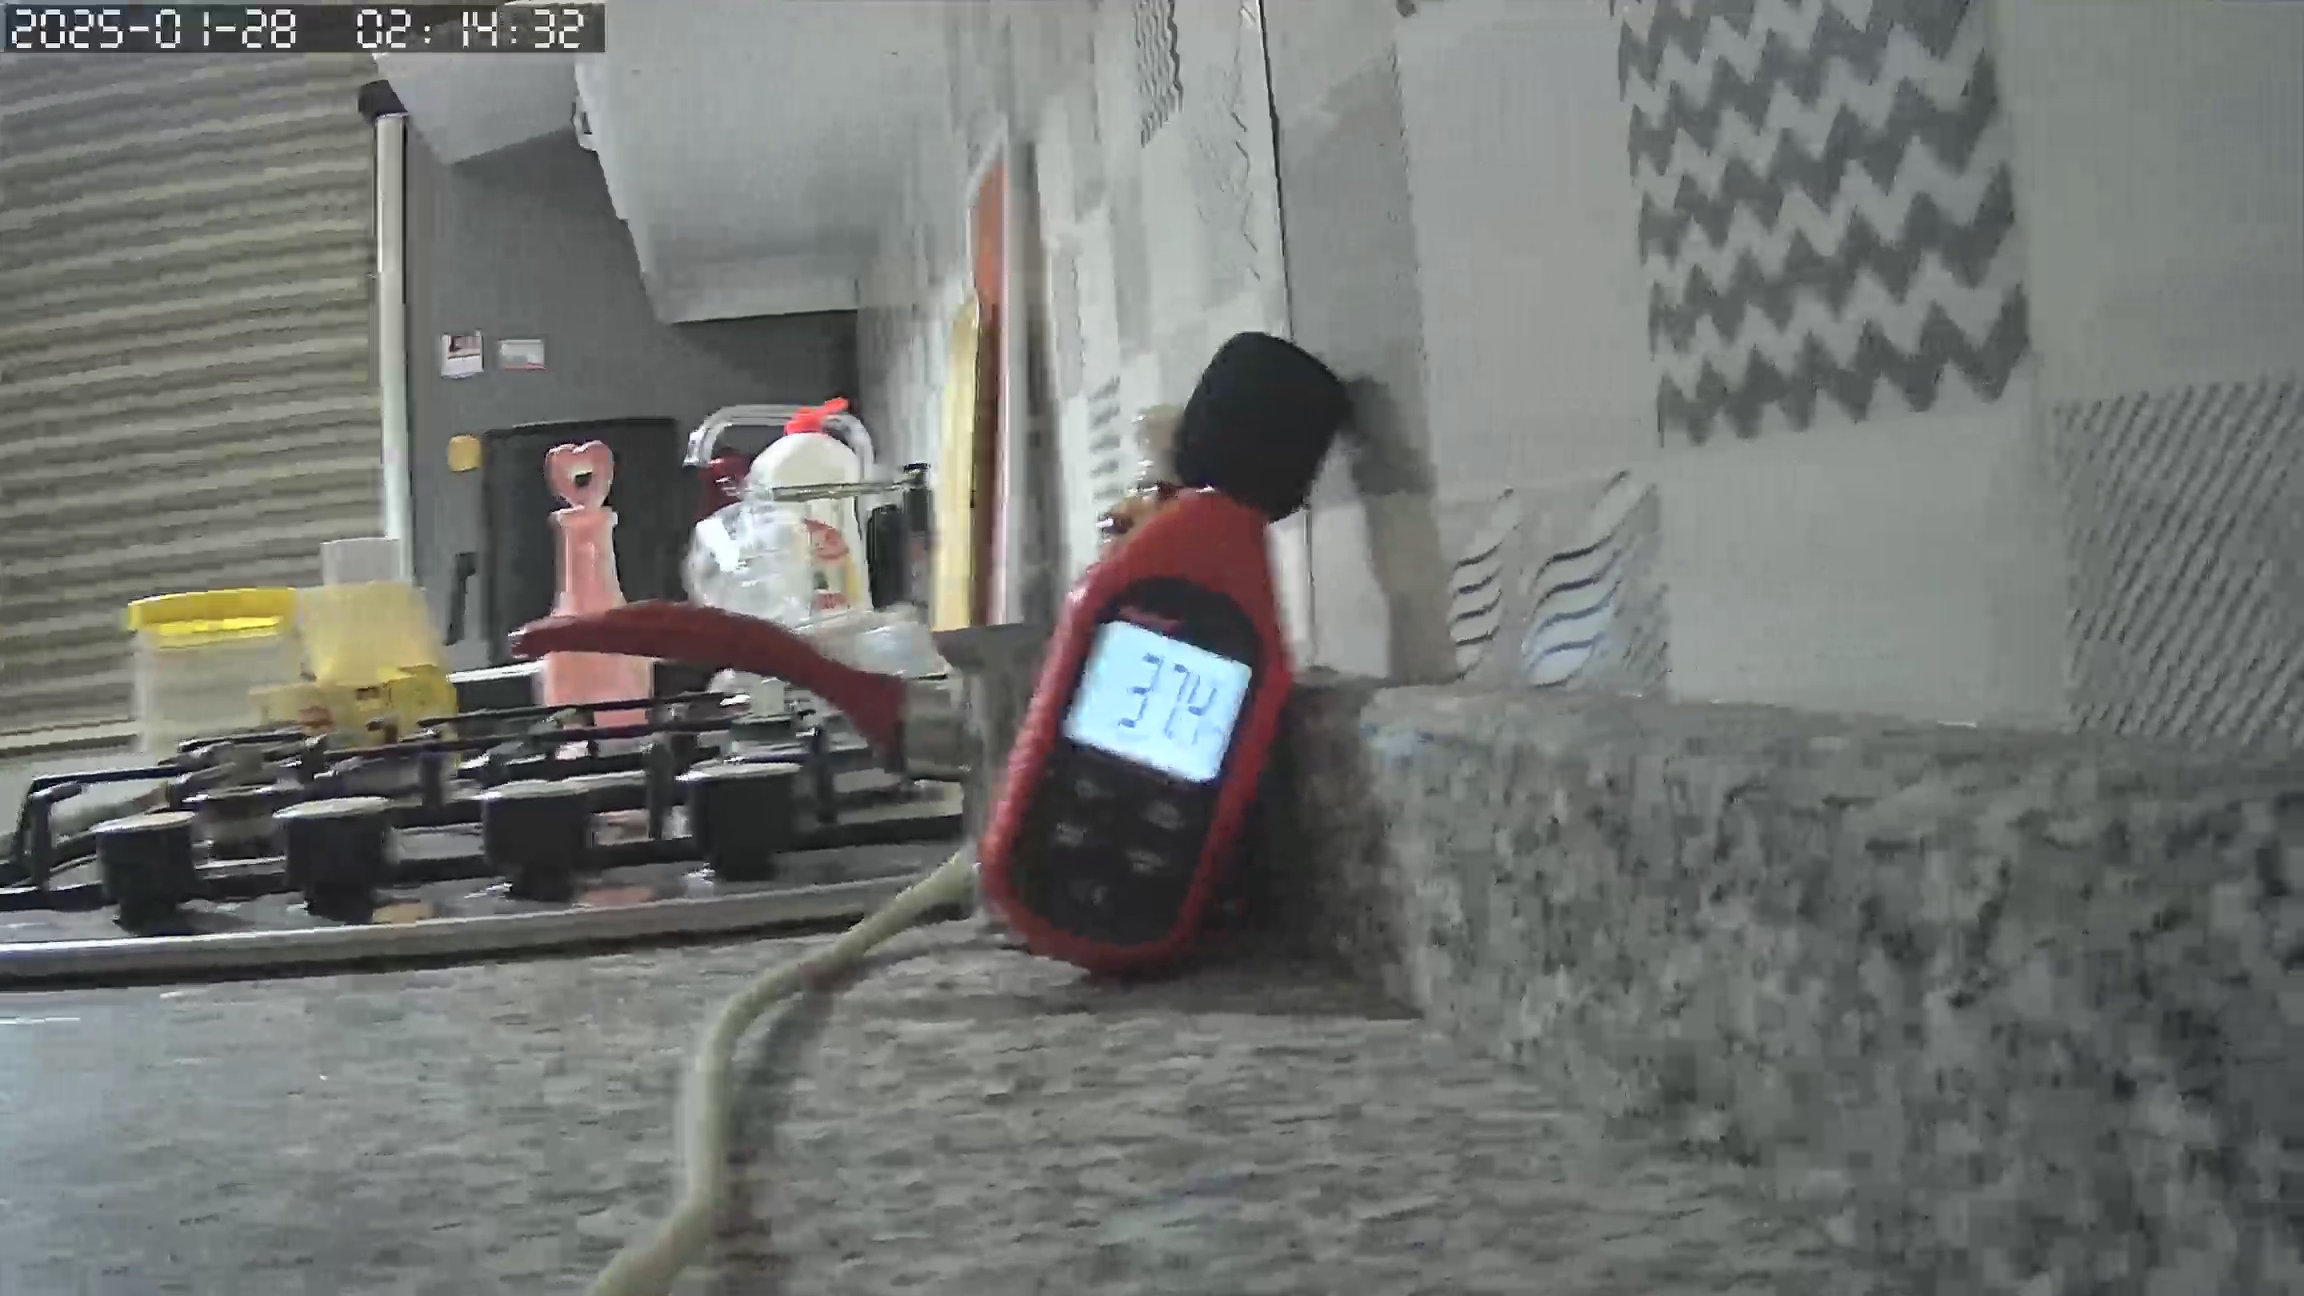screen: (1062, 619, 1253, 786)
